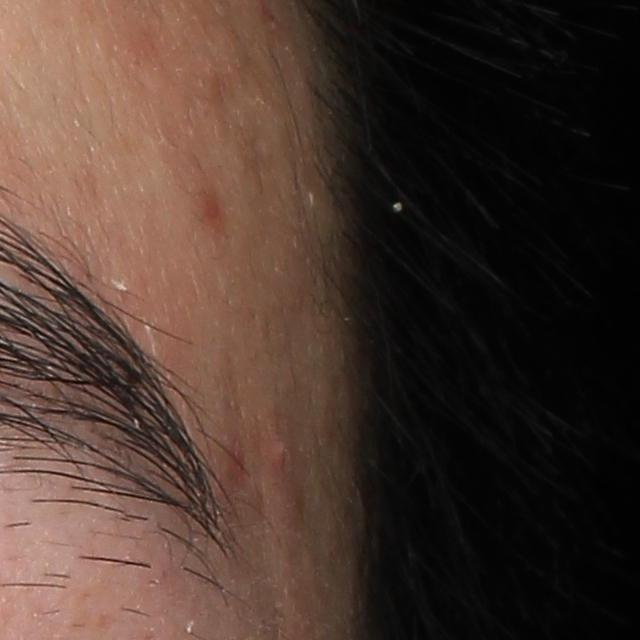papule: (263, 426, 292, 474)
